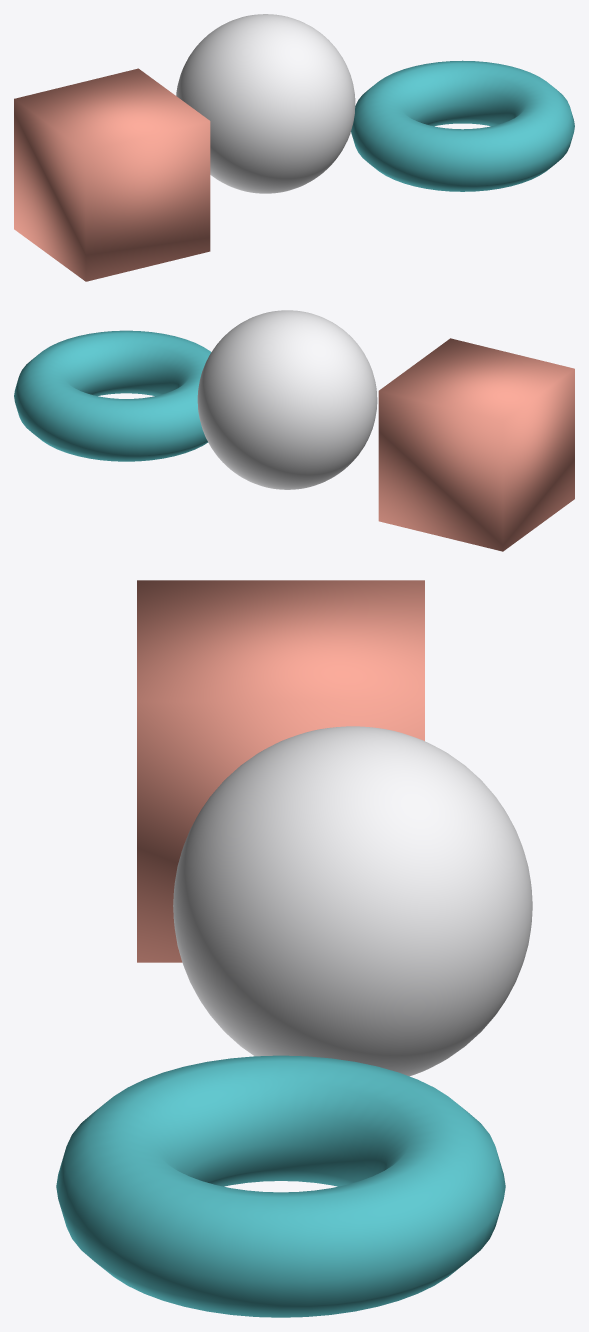
The model's file is demo_scene.glb.
3 renders of one model, top to bottom at view 1: azimuth 30°, elevation 25°; view 2: azimuth 150°, elevation 25°; view 3: azimuth 270°, elevation 25°, orthographic. The views are drawn at different scales.
Visible parts, largest first — view 1: Cube, Sphere, Torus; view 2: Cube, Sphere, Torus; view 3: Sphere, Torus, Cube.
Boxes of the visible parts, left/top/right/bottom form: Cube: left=14, top=68, right=210, bottom=281; Sphere: left=176, top=14, right=355, bottom=193; Torus: left=351, top=60, right=574, bottom=191; Cube: left=378, top=338, right=574, bottom=551; Sphere: left=197, top=310, right=377, bottom=489; Torus: left=14, top=330, right=211, bottom=461; Sphere: left=173, top=726, right=532, bottom=1076; Torus: left=56, top=1055, right=505, bottom=1317; Cube: left=137, top=580, right=424, bottom=962.
Size of what is drawn, in the model's own units: 6.55 by 2 by 2.65.
